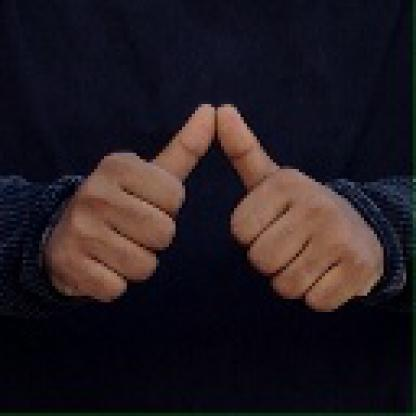A: (47, 103, 380, 311)
